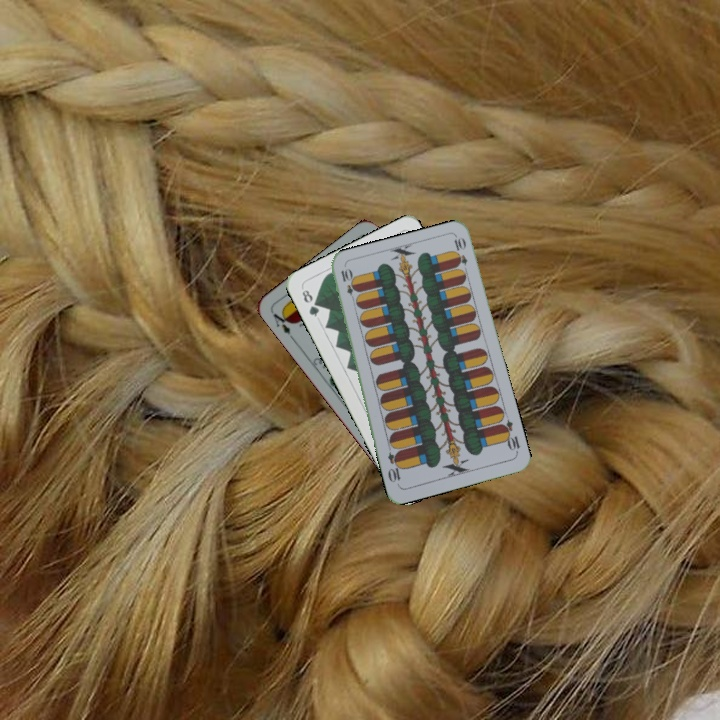E10: (497, 416, 522, 456), (337, 264, 359, 305)
EA: (268, 306, 297, 343)
G8: (298, 284, 322, 320)
